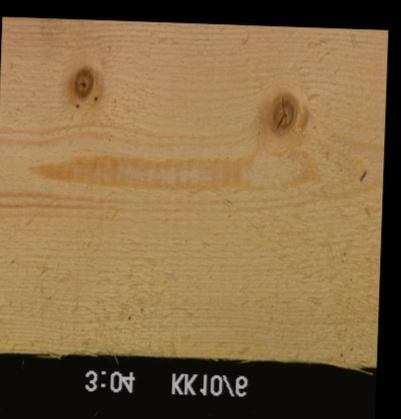sound_knot: (264, 90, 298, 135), (71, 66, 93, 99)
